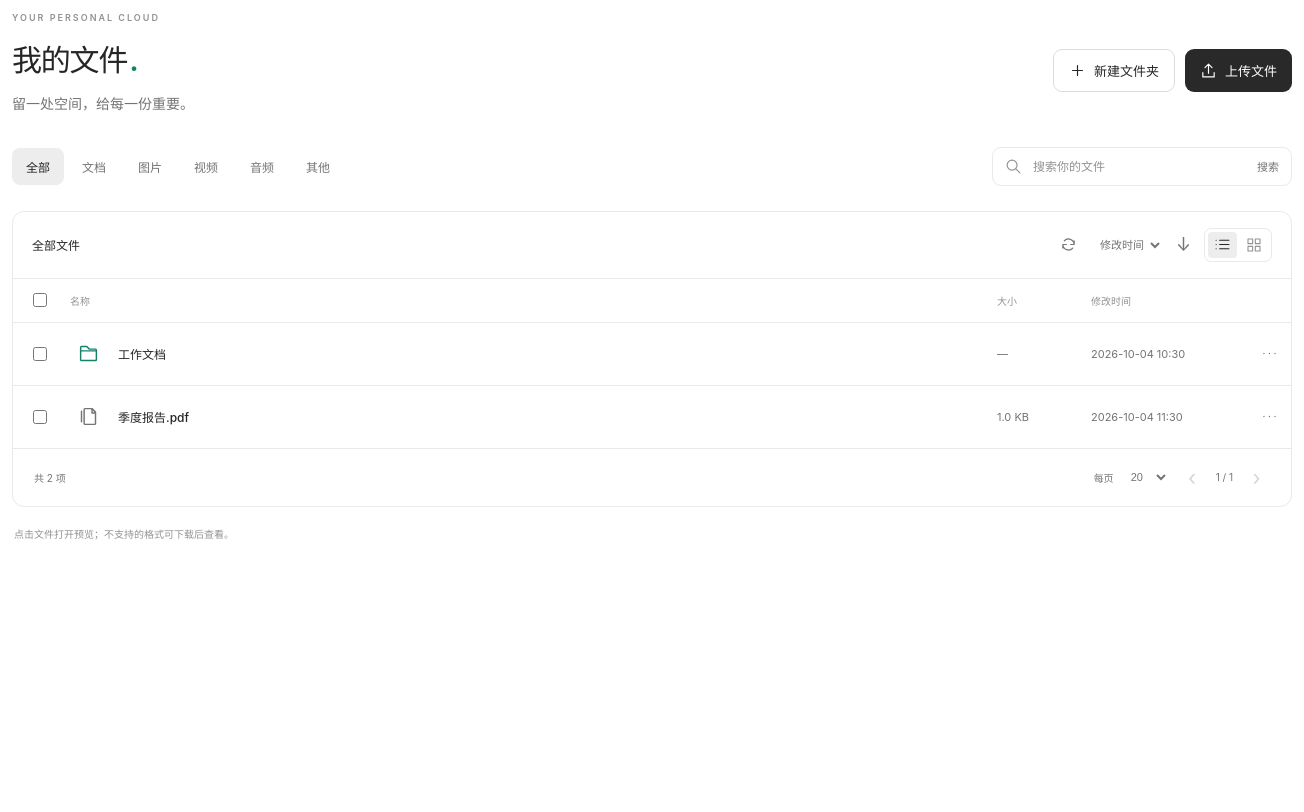
Test case: 文件浏览与组织 › 展示真实返回列表，在网格间切换并保存布局偏好
The image size is (1304, 812).
Expected: the table with class "file-table" shows "季度报告.pdf", [70,395,971,439]
Expected: the table with class "file-table" shows "1.0 KB", [997,410,1029,424]
Click the button named "网格视图". click: [1254, 245]
box: [1239,232,1268,258]
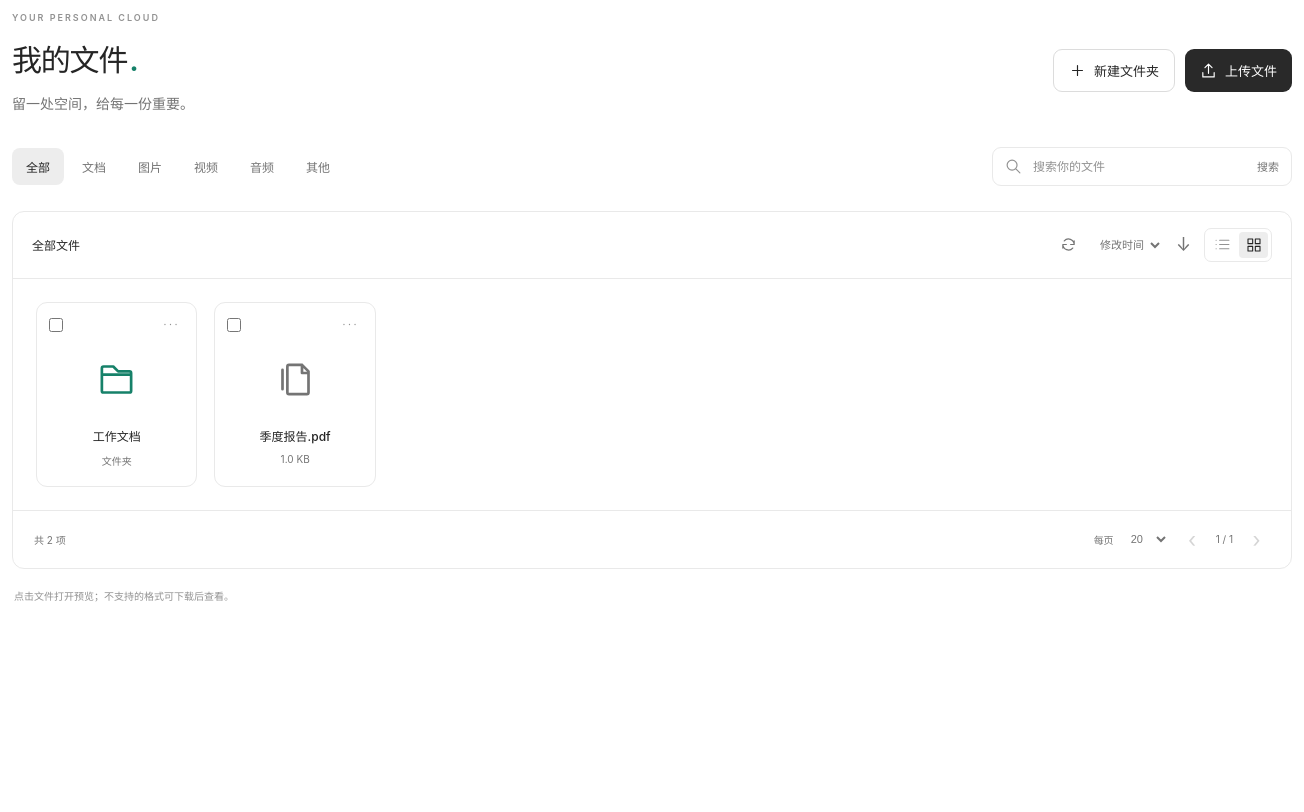
Result: the number of elements with class "file-card" is 2 at [36,302,197,487]; [214,302,376,487]
Click the button named "列表视图". click: [1222, 245]
box: [1208,232,1237,258]
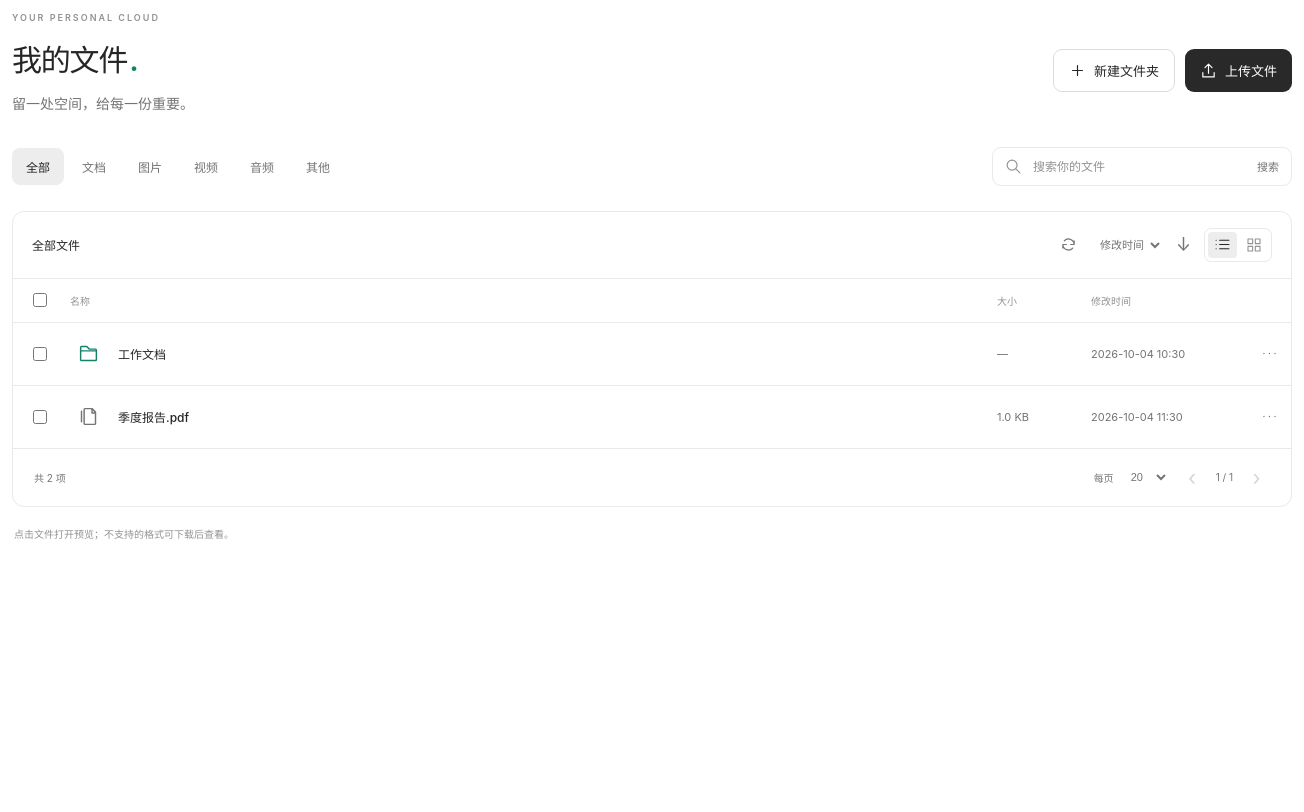
Result: the table with class "file-table" is shown at [13,279,1291,448]
